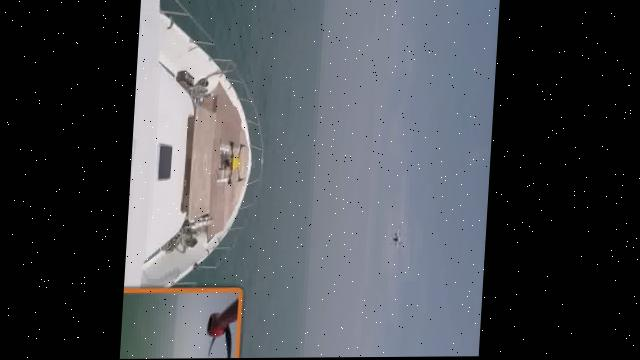drone: (215, 131, 263, 198), (395, 221, 415, 254)
